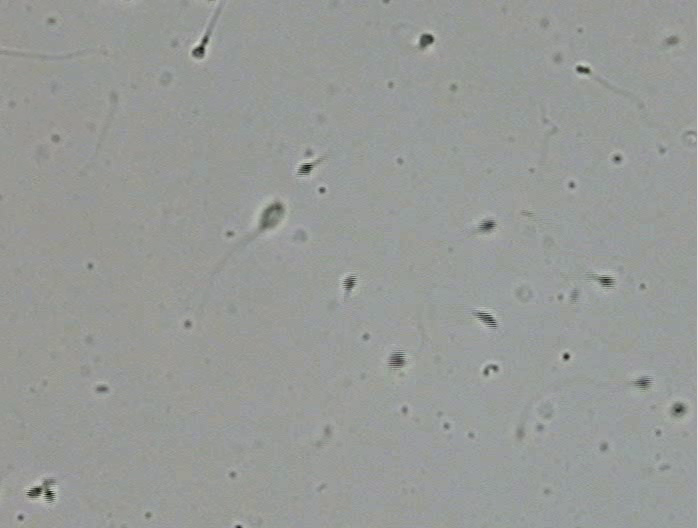S: (259, 200, 285, 229), (475, 311, 497, 329), (388, 351, 406, 369), (478, 218, 496, 233), (342, 274, 357, 291), (597, 275, 615, 289), (634, 375, 652, 389), (419, 33, 435, 48), (297, 162, 314, 176), (43, 488, 56, 503), (26, 486, 42, 498), (192, 45, 205, 59), (575, 64, 591, 74), (674, 404, 686, 416)
